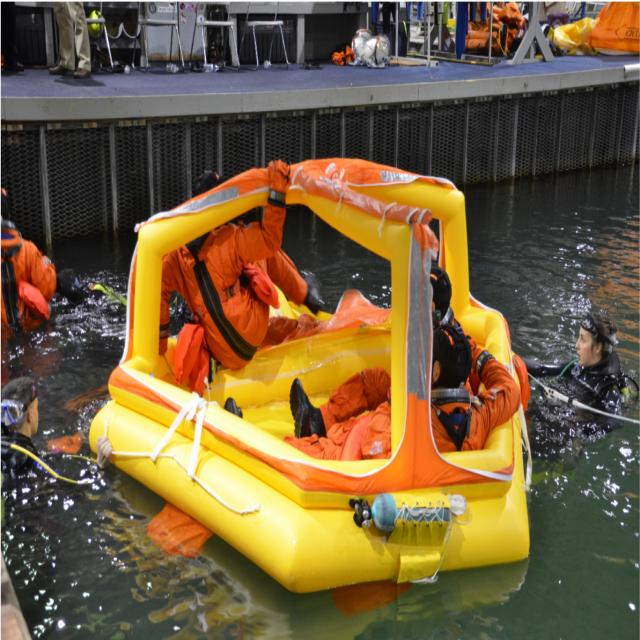Mannequin_wearing_orange-colored_life_preserver_unit_ LPU: (174, 261, 280, 397), (339, 413, 391, 460), (18, 280, 50, 319)
Multi-person_life_raft: (89, 156, 529, 593)
